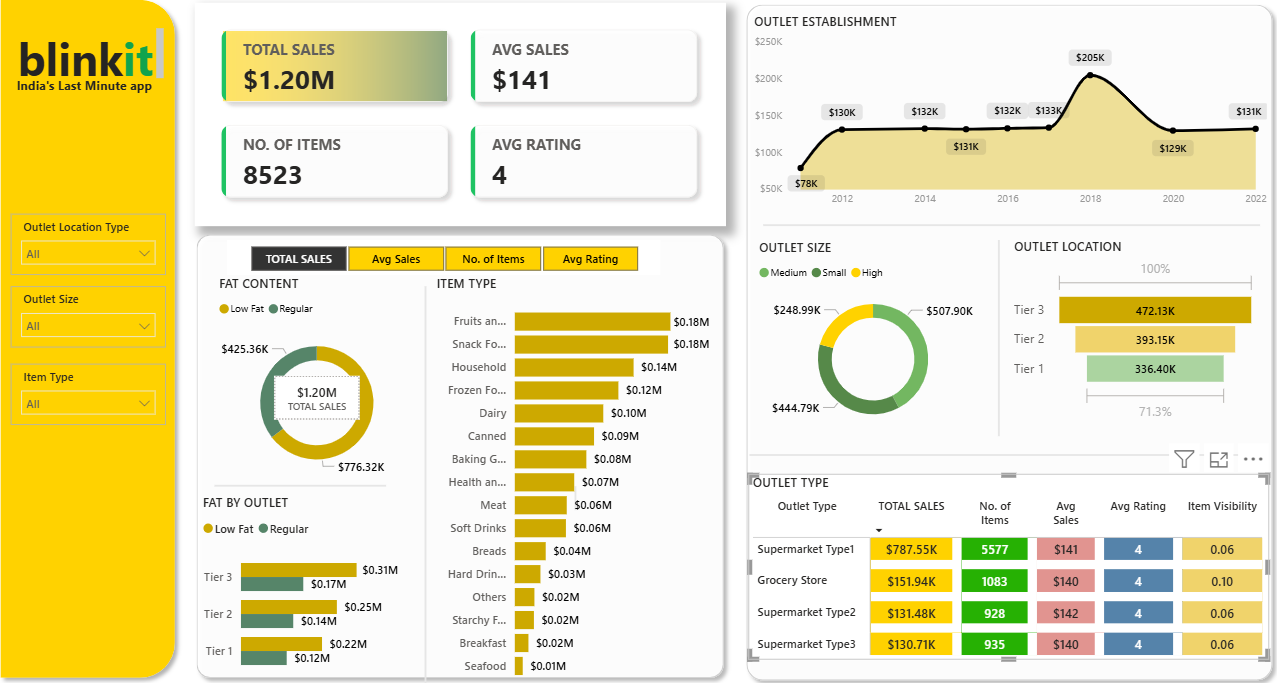

Layout of this report page (visuals, bound fields, positions):
{"tool":"powerbi","page":{"name":"Page 1","canvas":[1400,800],"ordinal":0},"visuals":[{"type":"shape","box":[0,12.1,205.1,745.3],"z":0},{"type":"textbox","box":[20.1,46.9,168.9,68.4],"z":1000},{"type":"textbox","box":[21.4,99.2,164.9,33.5],"z":2000},{"type":"cardVisual","fields":{"Data":["BlinkIT Grocery Data.TOTAL SALES","BlinkIT Grocery Data.Avg Sales","BlinkIT Grocery Data.No. of Items","BlinkIT Grocery Data.Avg Rating"]},"box":[217.2,24.1,569.7,239.9],"z":3000},{"type":"shape","box":[210.5,264.1,583.1,493.3],"z":4000},{"type":"donutChart","title":"FAT CONTENT","fields":{"Y":["BlinkIT Grocery Data.TOTAL SALES"],"Category":["BlinkIT Grocery Data.Item Fat Content"]},"box":[238.6,316.4,219.8,229.2],"z":5000},{"type":"slicer","fields":{"Values":["Metrics.Metrics"]},"box":[252,278.8,465.1,37.5],"z":6000},{"type":"cardVisual","fields":{"Data":["BlinkIT Grocery Data.TOTAL SALES"]},"box":[297.1,420,102.9,57.1],"z":7000},{"type":"clusteredBarChart","title":"FAT BY OUTLET","fields":{"Y":["BlinkIT Grocery Data.TOTAL SALES"],"Category":["BlinkIT Grocery Data.Outlet Location Type"],"Series":["BlinkIT Grocery Data.Item Fat Content"]},"box":[221.2,550.9,219.8,206.4],"z":8000},{"type":"shape","box":[238.6,530,184.3,25.7],"z":9000},{"type":"shape","box":[532.9,542.9,184.3,25.7],"z":10000},{"type":"shape","box":[458.6,328.6,12.9,428.6],"z":11000},{"type":"barChart","title":"ITEM TYPE","fields":{"Y":["BlinkIT Grocery Data.TOTAL SALES"],"Category":["BlinkIT Grocery Data.Item Type"]},"box":[471.4,315.7,302.9,444.3],"z":12000},{"type":"shape","box":[800.3,17.4,581.8,742.6],"z":13000},{"type":"lineChart","title":"OUTLET ESTABLISHMENT","fields":{"Y":["BlinkIT Grocery Data.TOTAL SALES"],"Category":["BlinkIT Grocery Data.Outlet Establishment Year"]},"box":[812.9,34.3,560,217.1],"z":14000},{"type":"shape","box":[827.1,250,532.9,27.1],"z":15000},{"type":"donutChart","title":"OUTLET SIZE","fields":{"Y":["BlinkIT Grocery Data.TOTAL SALES"],"Category":["BlinkIT Grocery Data.Outlet Size"]},"box":[817.7,277.5,254.7,213.1],"z":16000},{"type":"shape","box":[1072.4,278.8,14.7,210.5],"z":17000},{"type":"funnel","title":"OUTLET LOCATION","fields":{"Y":["Sum(BlinkIT Grocery Data.Sales)"],"Category":["BlinkIT Grocery Data.Outlet Location Type"]},"box":[1091.2,276.1,269.4,201.1],"z":18000},{"type":"shape","box":[812.3,489.3,548.3,40.2],"z":19000},{"type":"pivotTable","title":"OUTLET TYPE","fields":{"Rows":["BlinkIT Grocery Data.Outlet Type"],"Values":["BlinkIT Grocery Data.TOTAL SALES","BlinkIT Grocery Data.No. of Items","BlinkIT Grocery Data.Avg Sales","BlinkIT Grocery Data.Avg Rating","Avg(BlinkIT Grocery Data.Item Visibility)"]},"box":[811,529.5,559,199.7],"z":20000},{"type":"slicer","fields":{"Values":["BlinkIT Grocery Data.Outlet Location Type"]},"box":[20.1,250.7,166.2,65.7],"z":21000},{"type":"slicer","fields":{"Values":["BlinkIT Grocery Data.Outlet Size"]},"box":[20.1,328.4,166.2,65.7],"z":22000},{"type":"slicer","fields":{"Values":["BlinkIT Grocery Data.Item Type"]},"box":[20.1,411.5,166.2,65.7],"z":23000}]}

Visuals, with their boxes on the page's 1400x800 design canvas (x1, y1, x2, y2). These are canvas units, not pixel positions in the 1277x683 screenshot, which may show the page scaled, cropped or inside an application window:
shape: 0,12,205,757
textbox: 20,47,189,115
textbox: 21,99,186,133
cardVisual - BlinkIT Grocery Data.TOTAL SALES x BlinkIT Grocery Data.Avg Sales: 217,24,787,264
shape: 210,264,794,757
"FAT CONTENT" donutChart: 239,316,458,546
slicer - Metrics.Metrics: 252,279,717,316
cardVisual - BlinkIT Grocery Data.TOTAL SALES: 297,420,400,477
"FAT BY OUTLET" clusteredBarChart: 221,551,441,757
shape: 239,530,423,556
shape: 533,543,717,569
shape: 459,329,472,757
"ITEM TYPE" barChart: 471,316,774,760
shape: 800,17,1382,760
"OUTLET ESTABLISHMENT" lineChart: 813,34,1373,251
shape: 827,250,1360,277
"OUTLET SIZE" donutChart: 818,278,1072,491
shape: 1072,279,1087,489
"OUTLET LOCATION" funnel: 1091,276,1361,477
shape: 812,489,1361,530
"OUTLET TYPE" pivotTable: 811,530,1370,729
slicer - BlinkIT Grocery Data.Outlet Location Type: 20,251,186,316
slicer - BlinkIT Grocery Data.Outlet Size: 20,328,186,394
slicer - BlinkIT Grocery Data.Item Type: 20,412,186,477
